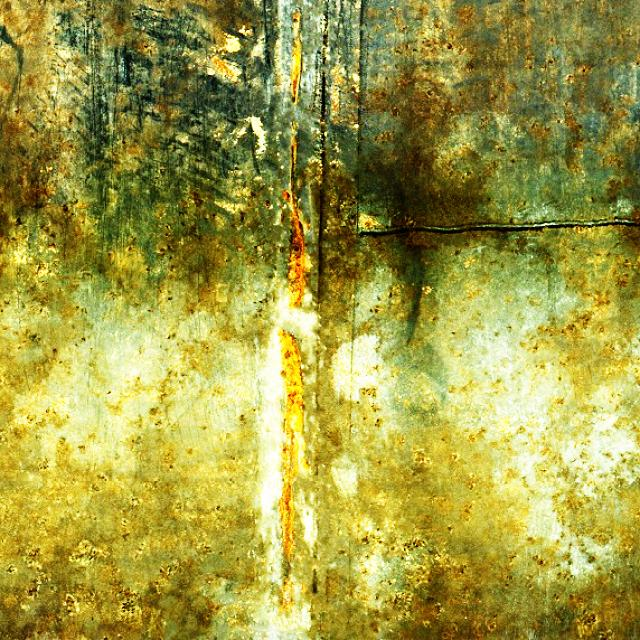Corrosion: (277, 329, 313, 561), (283, 190, 306, 310), (290, 38, 302, 104), (281, 578, 295, 612), (291, 135, 297, 186), (294, 10, 300, 34), (301, 582, 307, 594)
